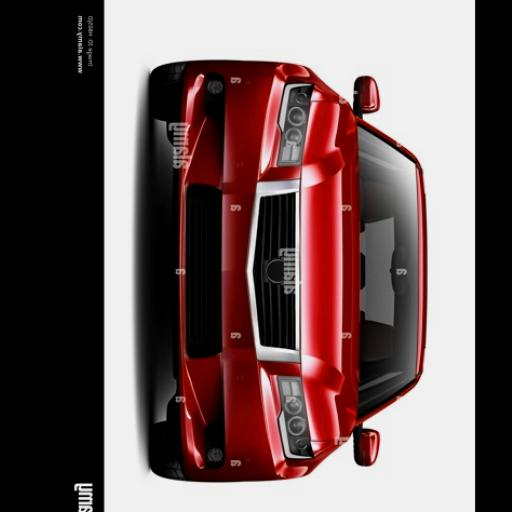sedan: (151, 63, 426, 485)
